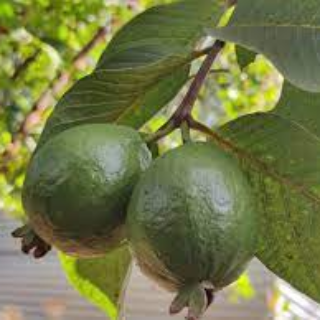oi: (130, 138, 267, 311), (24, 125, 144, 256)
